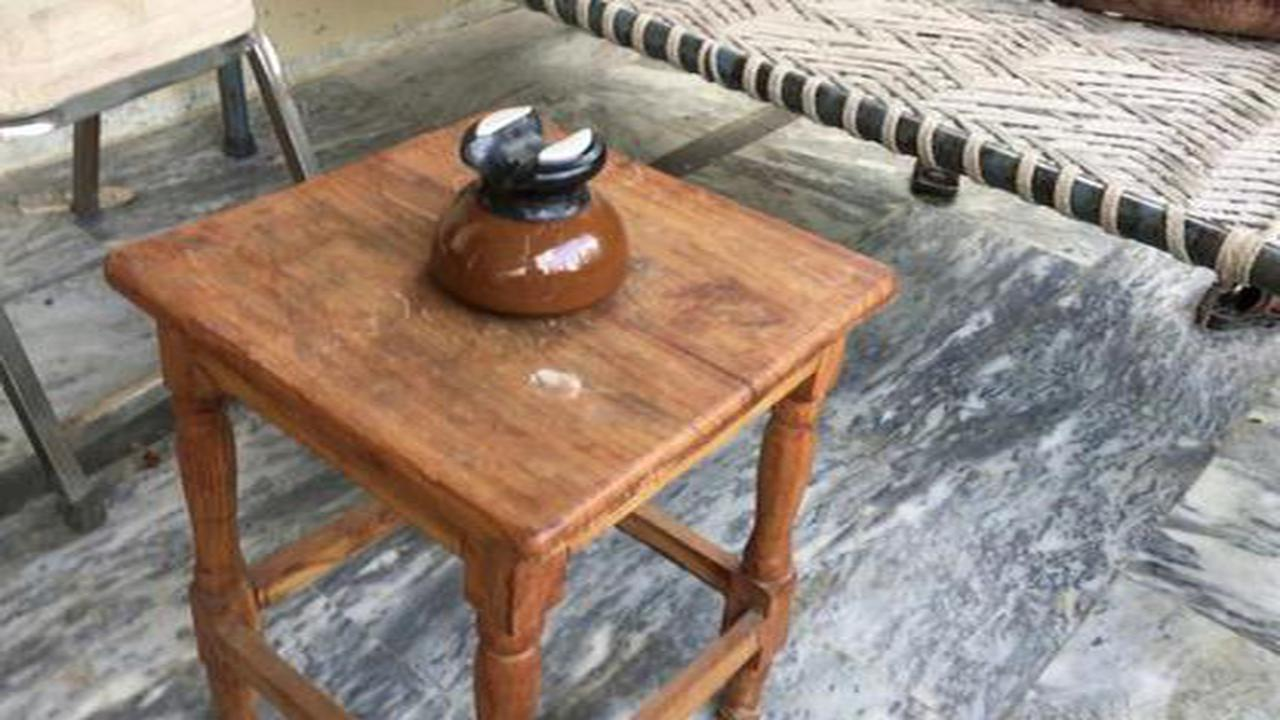insulator_pin: (419, 84, 641, 328)
